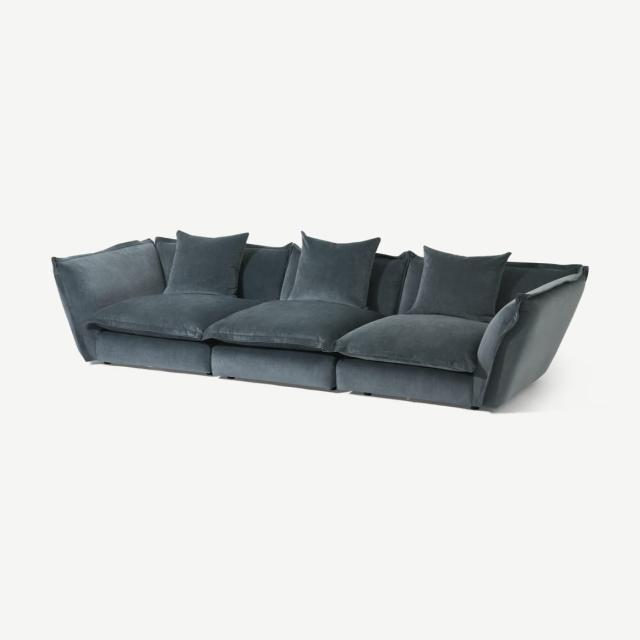back_cushion: (164, 231, 414, 315), (411, 246, 509, 321)
left_arm: (472, 266, 587, 408)
right_arm: (51, 239, 164, 360)
seat_cushion: (89, 294, 485, 406)
stallion-sofa: (0, 0, 639, 639)
